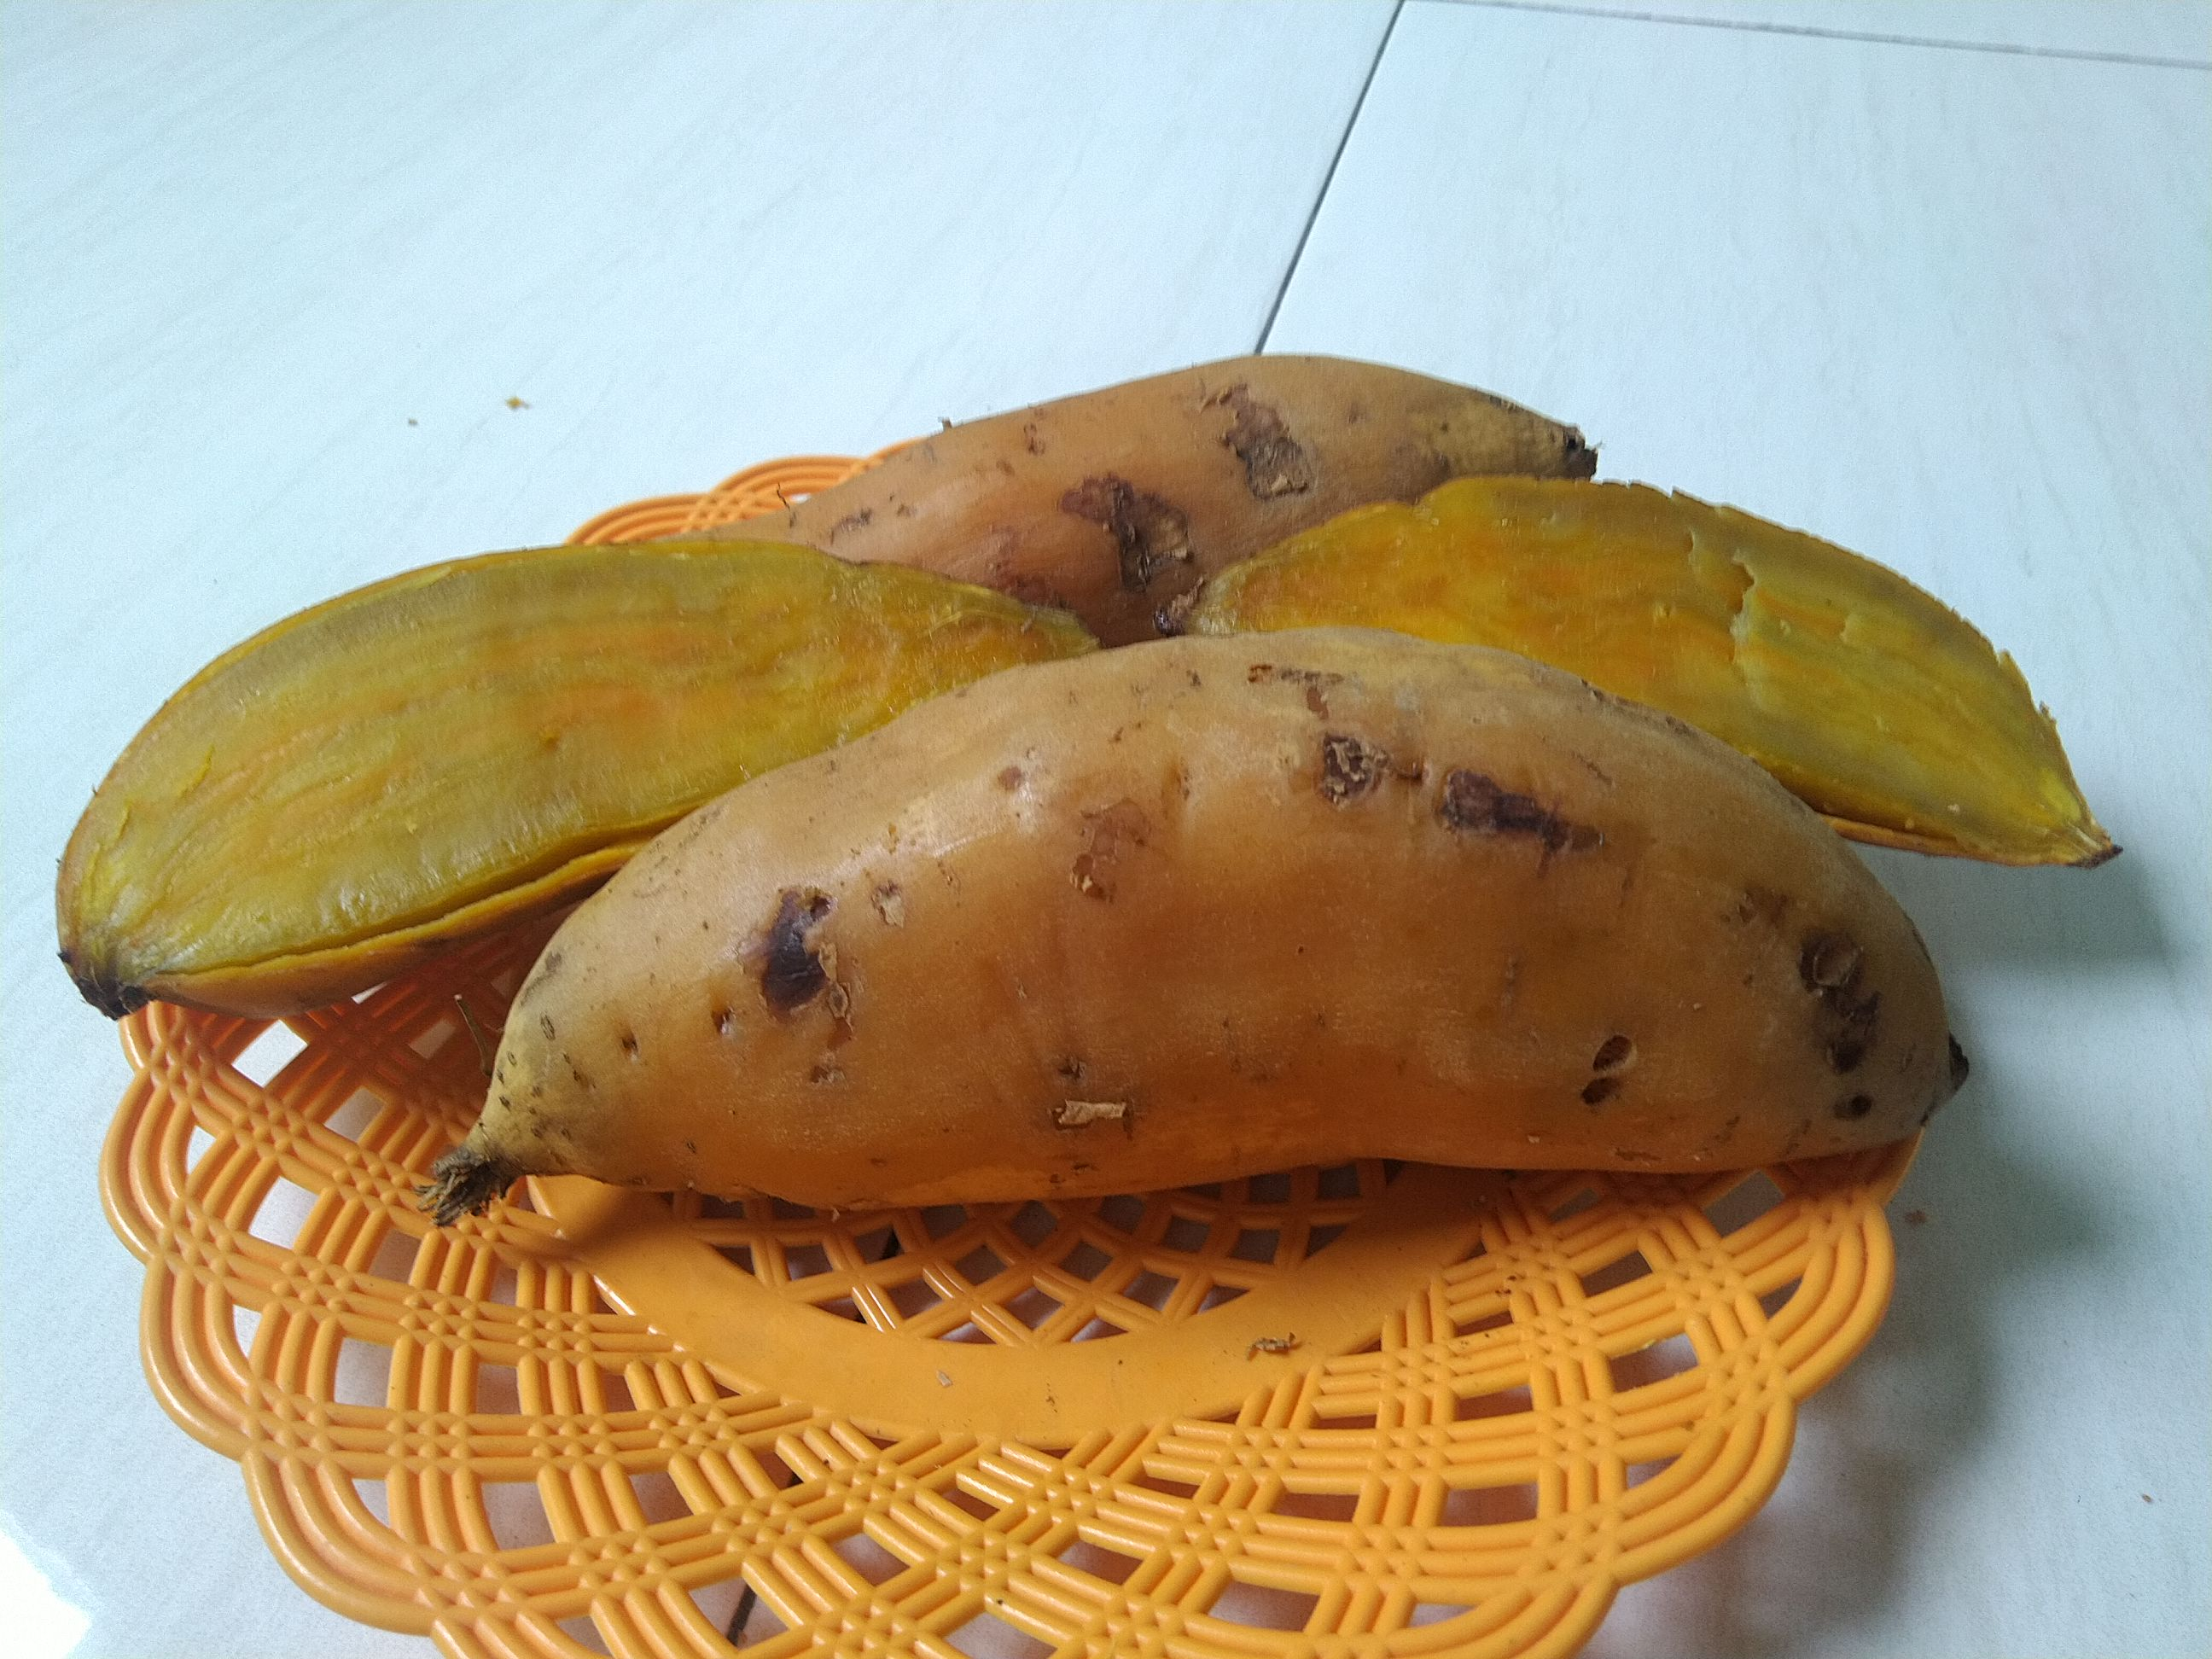ubi cilembu: (19, 333, 2142, 1229), (409, 627, 2034, 1253), (61, 511, 1109, 1021), (1150, 481, 2167, 878), (650, 343, 1609, 603)
